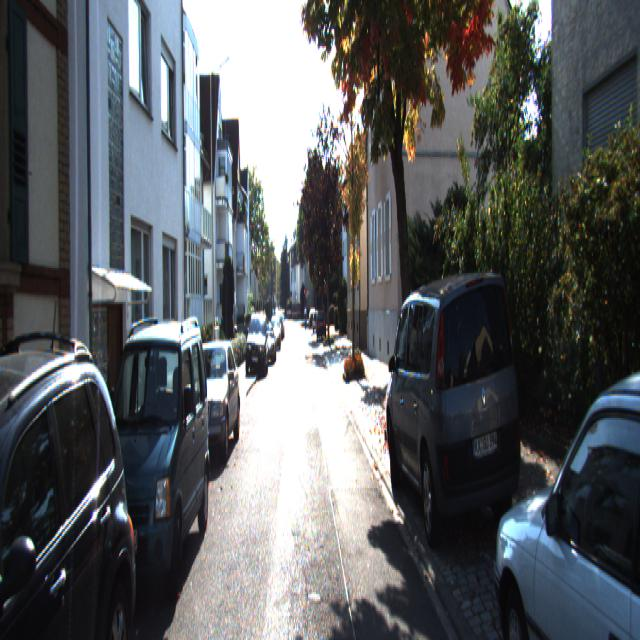Car: (488, 326, 639, 638), (0, 312, 144, 638), (380, 261, 530, 568), (85, 317, 211, 627), (177, 337, 241, 474), (245, 310, 268, 379)
